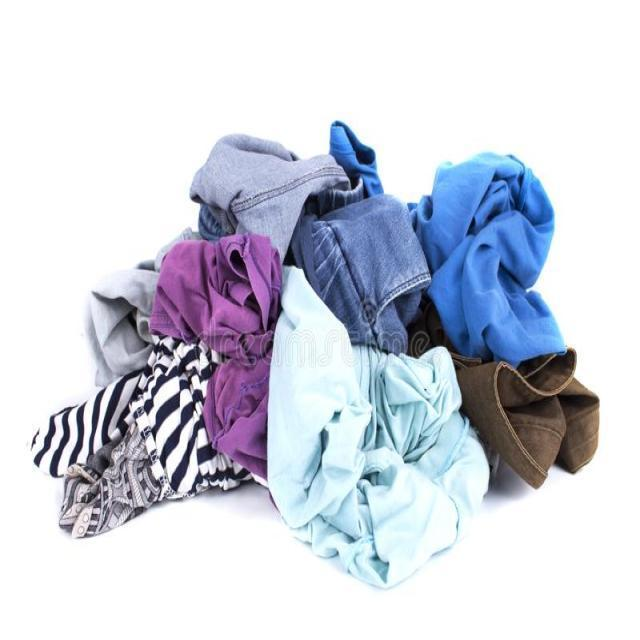clothes: (192, 185, 610, 591)
